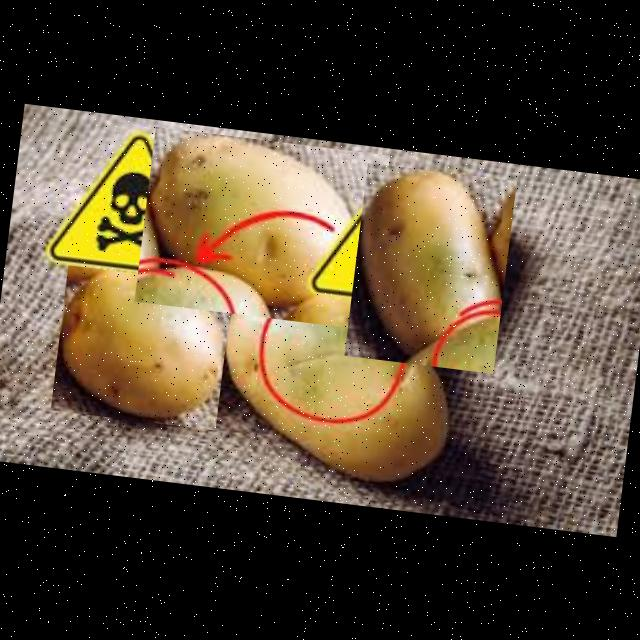Defected potato: (209, 268, 468, 497), (134, 126, 390, 330), (344, 162, 516, 374), (50, 265, 233, 430)
